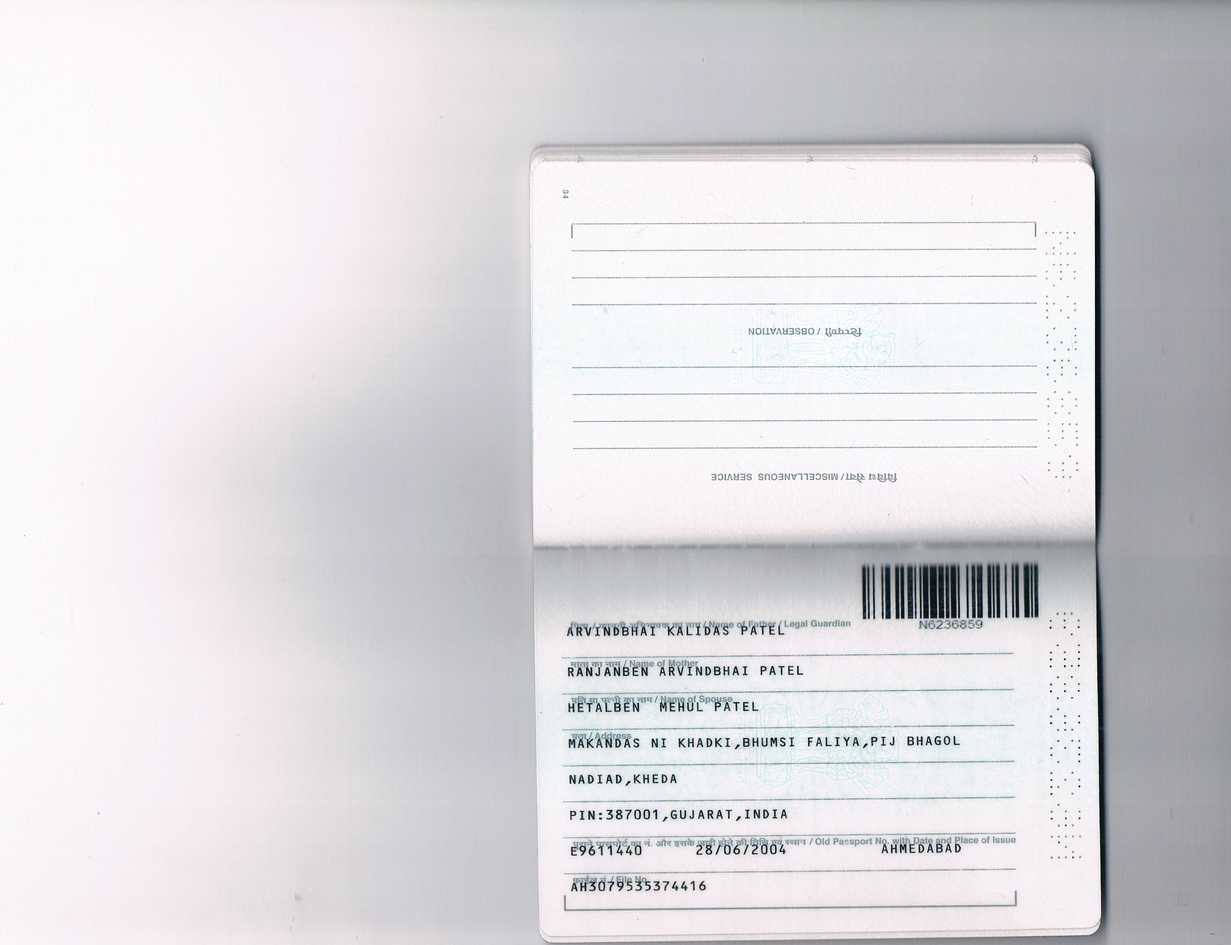File_no: (567, 879, 712, 895)
address: (562, 732, 978, 829)
father_name: (559, 616, 810, 652)
mother_name: (566, 654, 812, 689)
old_passport_details: (566, 831, 980, 867)
passport_no: (913, 614, 987, 634)
spouse_name: (559, 696, 774, 720)
